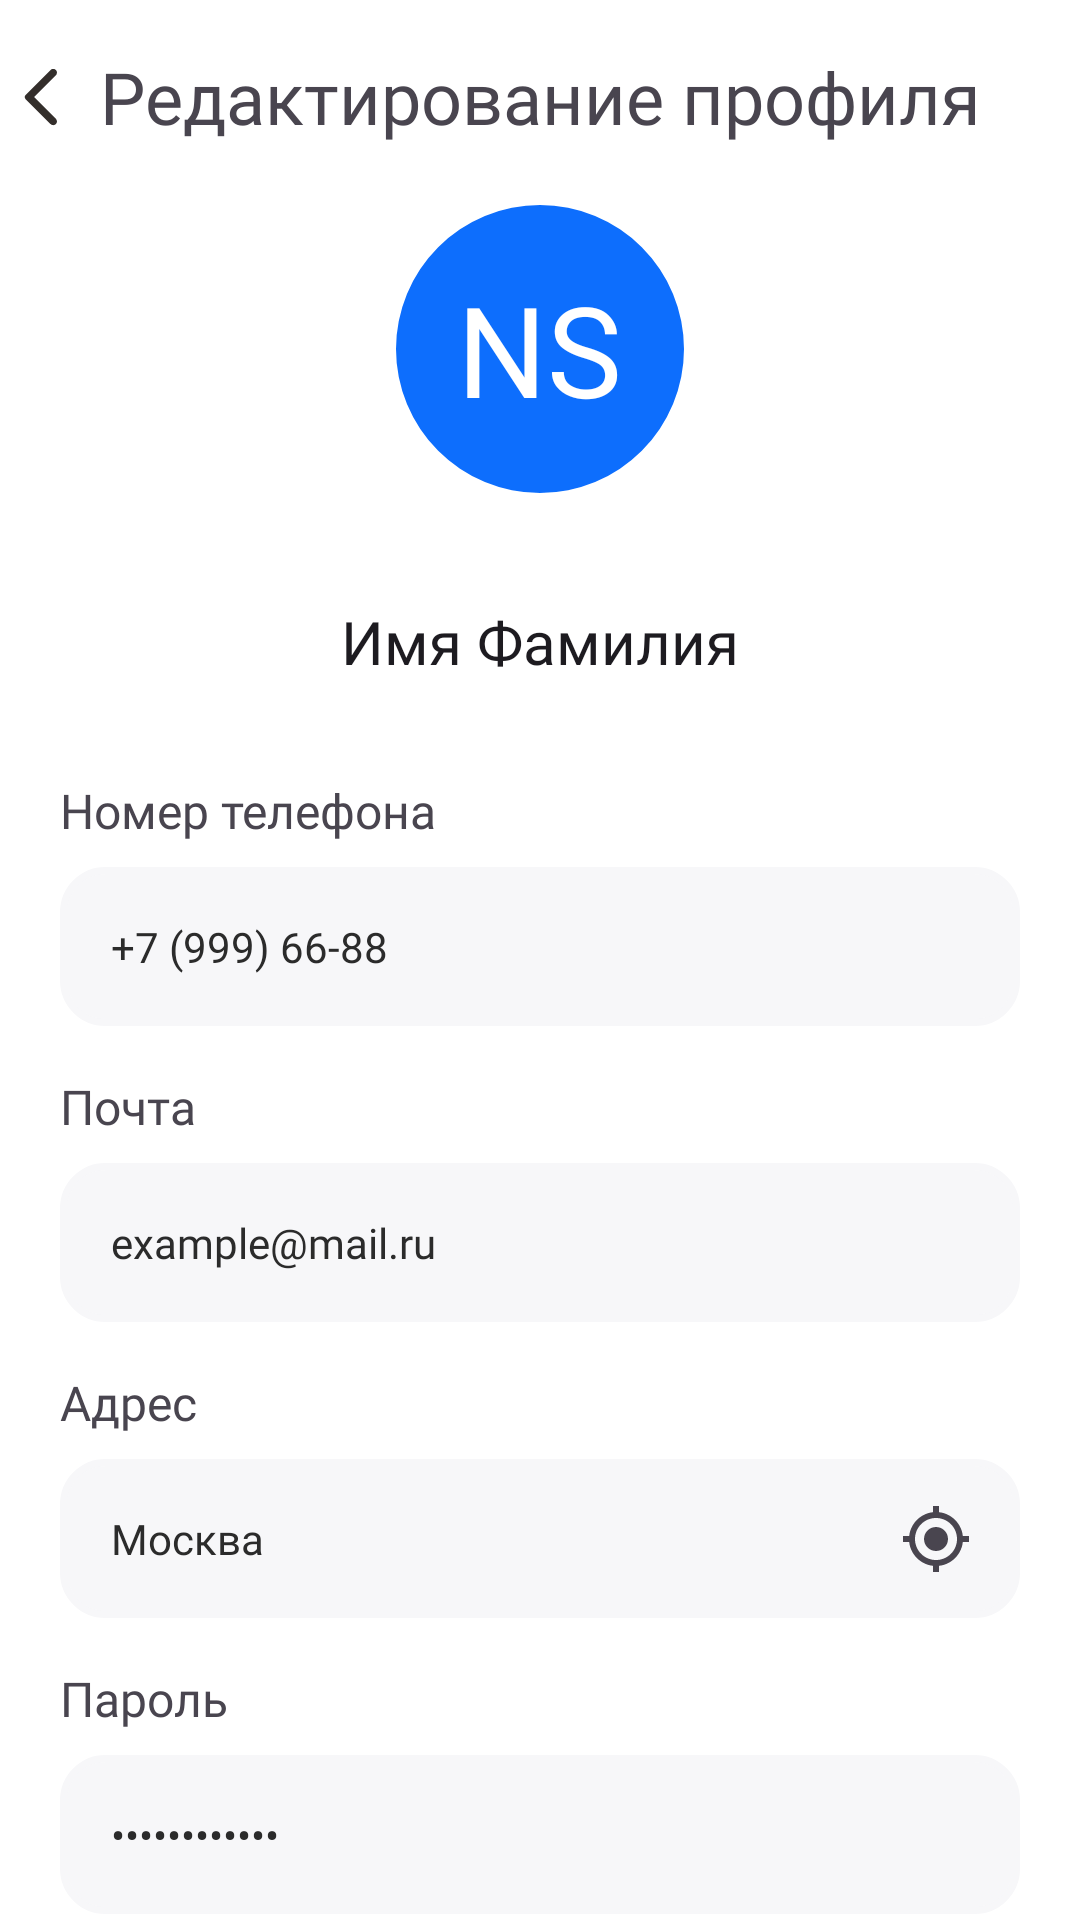

Icons on this 1080*1920 Android screen, each with the point to tap as (x=x, y=y):
back arrow: (x=40, y=97)
location: (x=936, y=1539)
